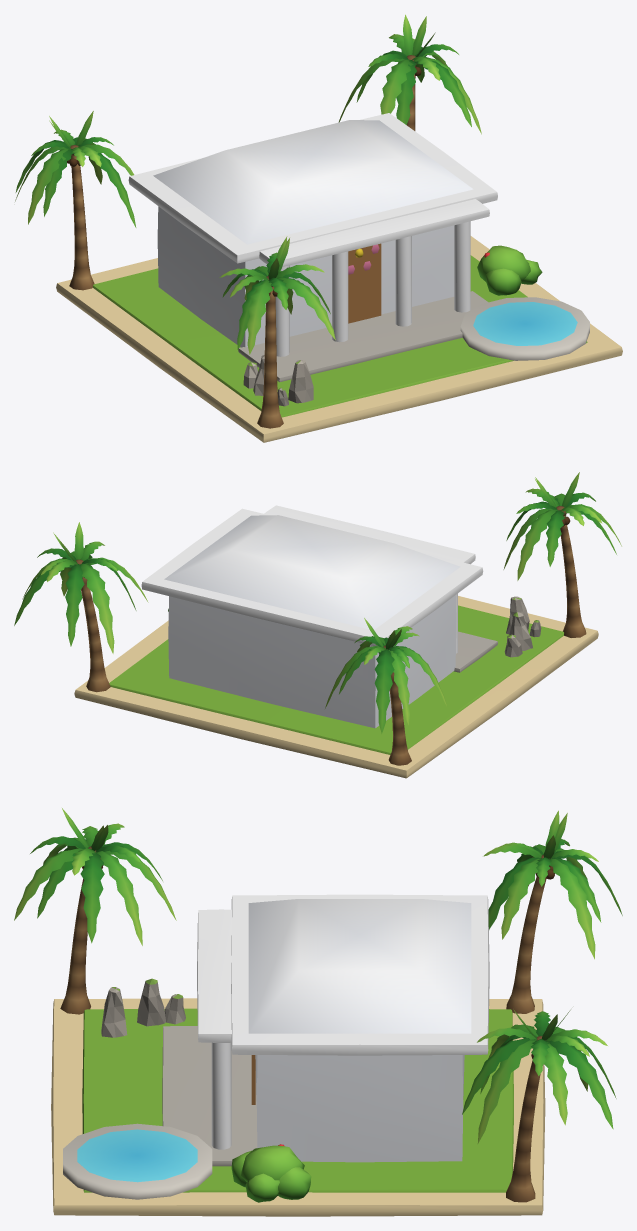
Rendered from Spa.obj.
3 renders of one model, top to bottom at view 1: azimuth 30°, elevation 25°; view 2: azimuth 150°, elevation 25°; view 3: azimuth 270°, elevation 25°, orthographic. The views are drawn at different scales.
Visible parts, largest first — view 1: Spa; view 2: Spa; view 3: Spa.
Part boxes in pixels (box(x1,y1,x2,y2)): Spa: box(15, 14, 622, 442); Spa: box(14, 472, 621, 778); Spa: box(14, 808, 622, 1216).
Size of the model in its own units: 4.89 by 1.92 by 4.93.
1 material, 1 textured.
